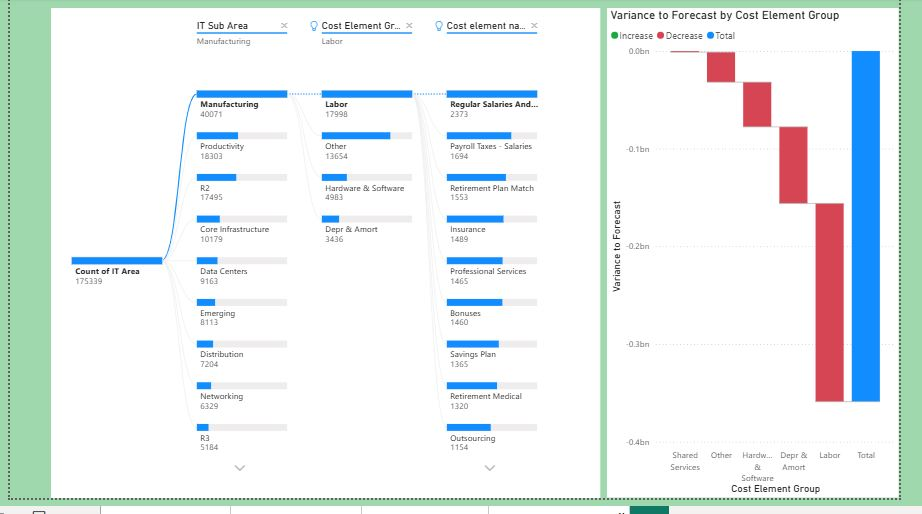

The page's visual inventory and layout, read from the dashboard file:
{"tool":"powerbi","page":{"name":"Variance & Drivers","canvas":[1280,720],"ordinal":3},"visuals":[{"type":"decompositionTreeVisual","fields":{"ExplainBy":["Data.IT Sub Area","Data.Cost Element Group","Data.Cost element name"],"Analyze":["CountNonNull(Data.IT Area)"]},"box":[58.6,14.6,790.8,705.9],"z":0},{"type":"waterfallChart","fields":{"Y":["Data.Variance to Forecast"],"Category":["Data.Cost Element Group"]},"box":[860,15,420,705],"z":1000}]}

Visuals, with their boxes in screenshot pixels (x1, y1, x2, y2), scaled from the page's 1280x720 canvas onto the 922x514 screenshot:
decompositionTreeVisual - Data.IT Sub Area x Data.Cost Element Group: {"left": 42, "top": 10, "right": 612, "bottom": 513}
waterfallChart - Data.Variance to Forecast x Data.Cost Element Group: {"left": 619, "top": 11, "right": 921, "bottom": 513}
